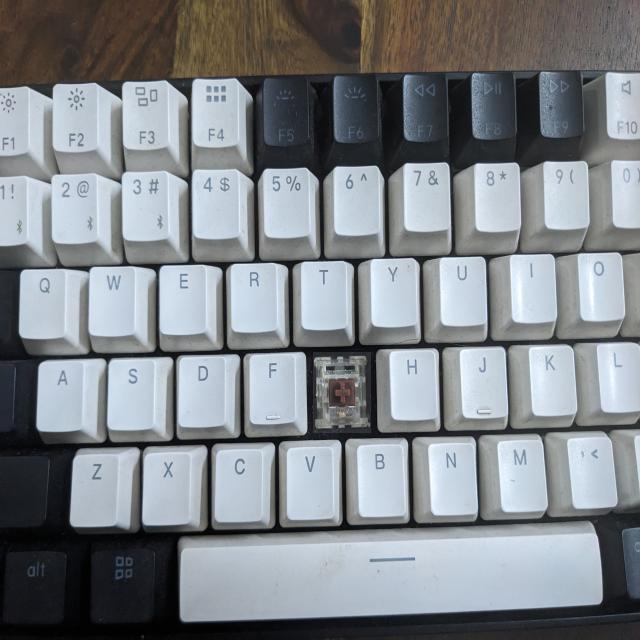C: (313, 352, 371, 433)
